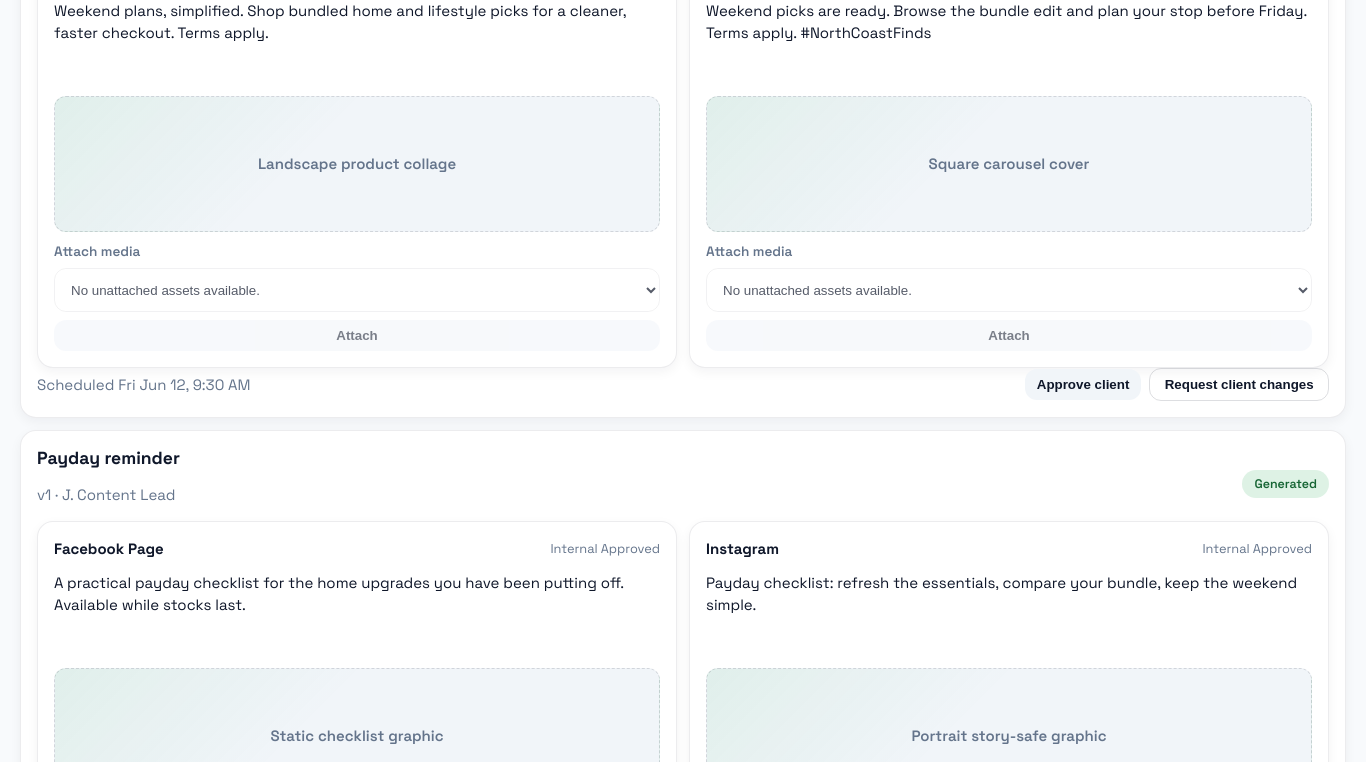
ContentOpsPage › schedules a client-approved draft with the workspace timezone
(page scrolled)
Click the button "Approve client": (1083, 385) x1=1025 y1=369 x2=1141 y2=400
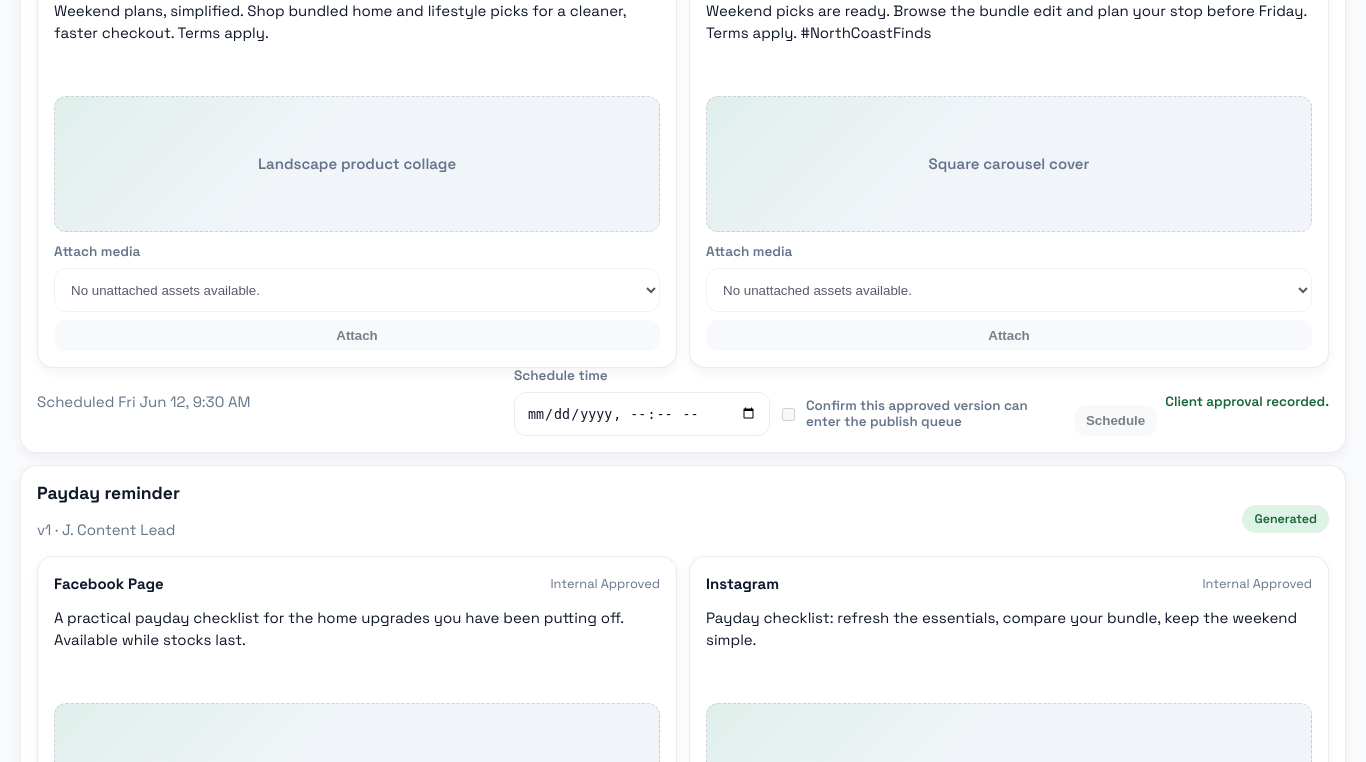
Expected: the button "Schedule" is disabled, x1=1074 y1=405 x2=1157 y2=436
In the field labelled "Schedule time": (642, 414) x1=514 y1=392 x2=770 y2=436, type "2026-06-18T09:30"
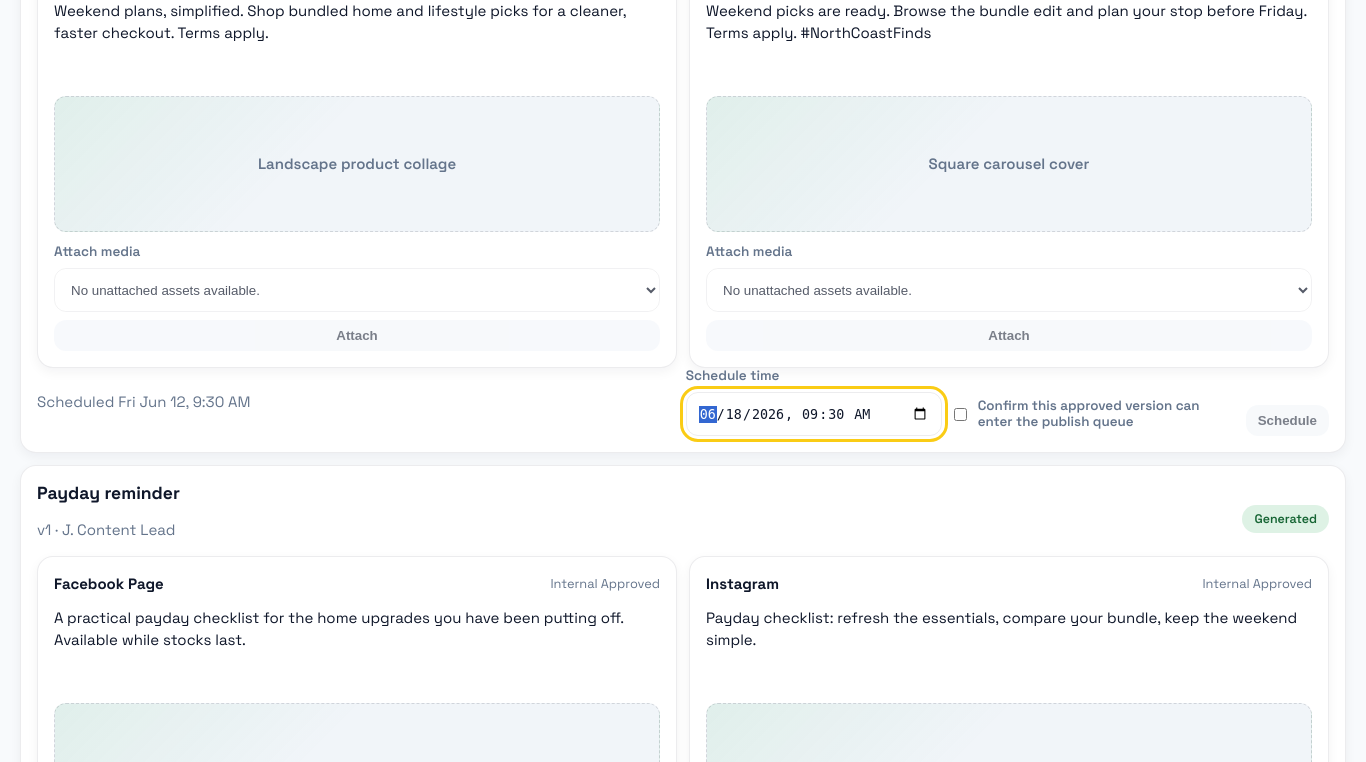
Expected: the button "Schedule" is disabled, x1=1246 y1=405 x2=1329 y2=436
Click the checkbox labelled "Confirm this approved version can enter the publish queue": (960, 414) x1=954 y1=408 x2=967 y2=421
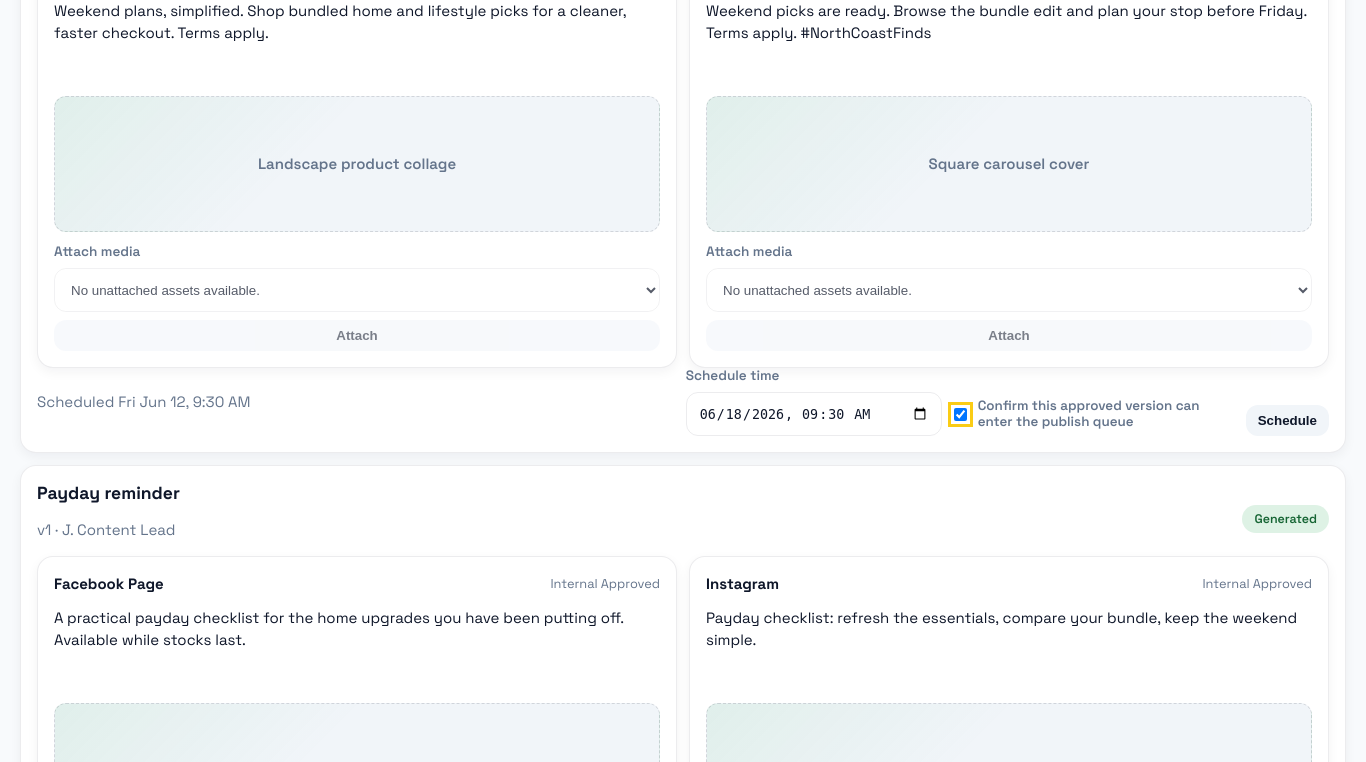
Click the button "Schedule": (1287, 421) x1=1246 y1=405 x2=1329 y2=436
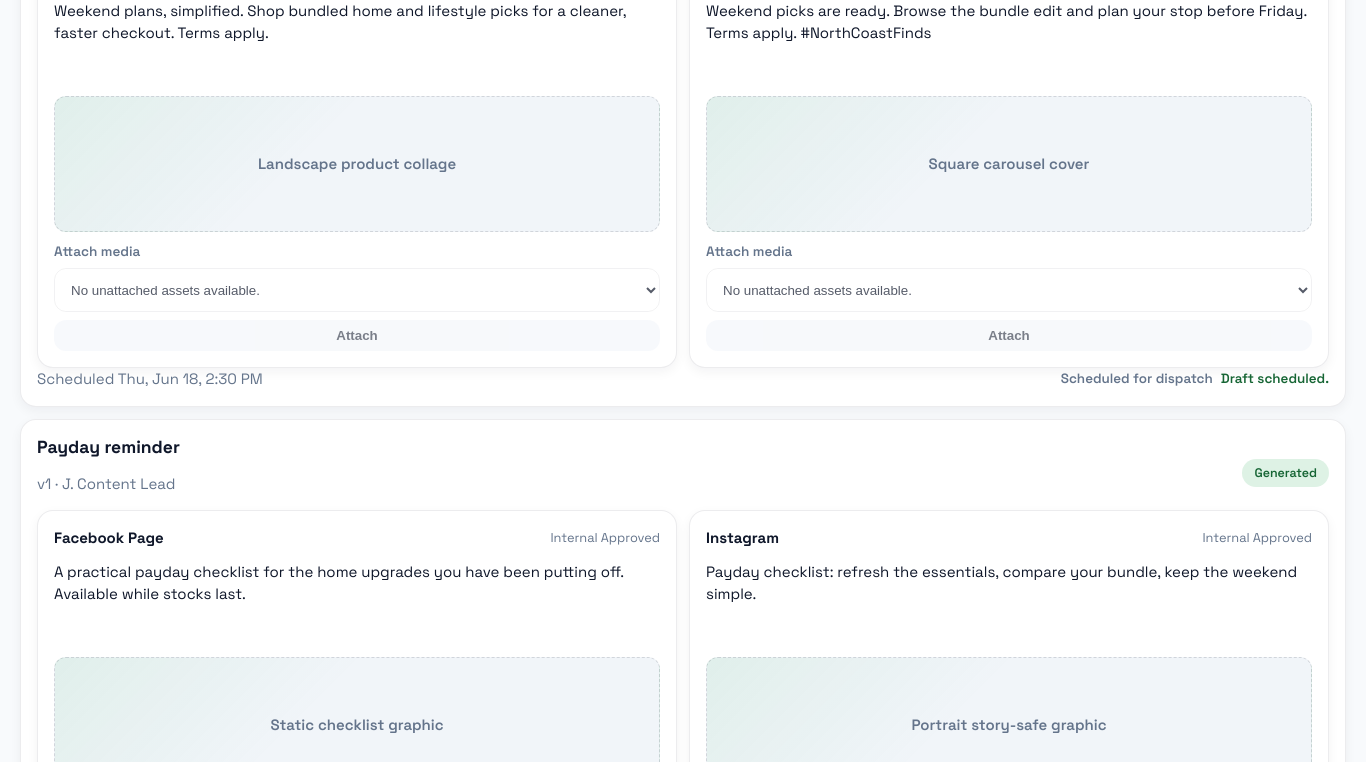
Expected: the text "Draft scheduled." is shown, x1=1221 y1=368 x2=1329 y2=390
Expected: the text "Scheduled for dispatch" is shown, x1=1061 y1=368 x2=1213 y2=390
